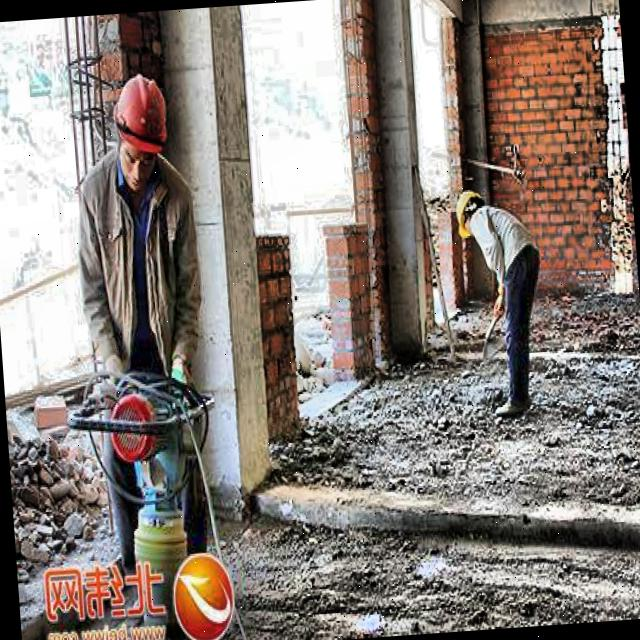helmet: (106, 69, 176, 189), (448, 184, 489, 244)
